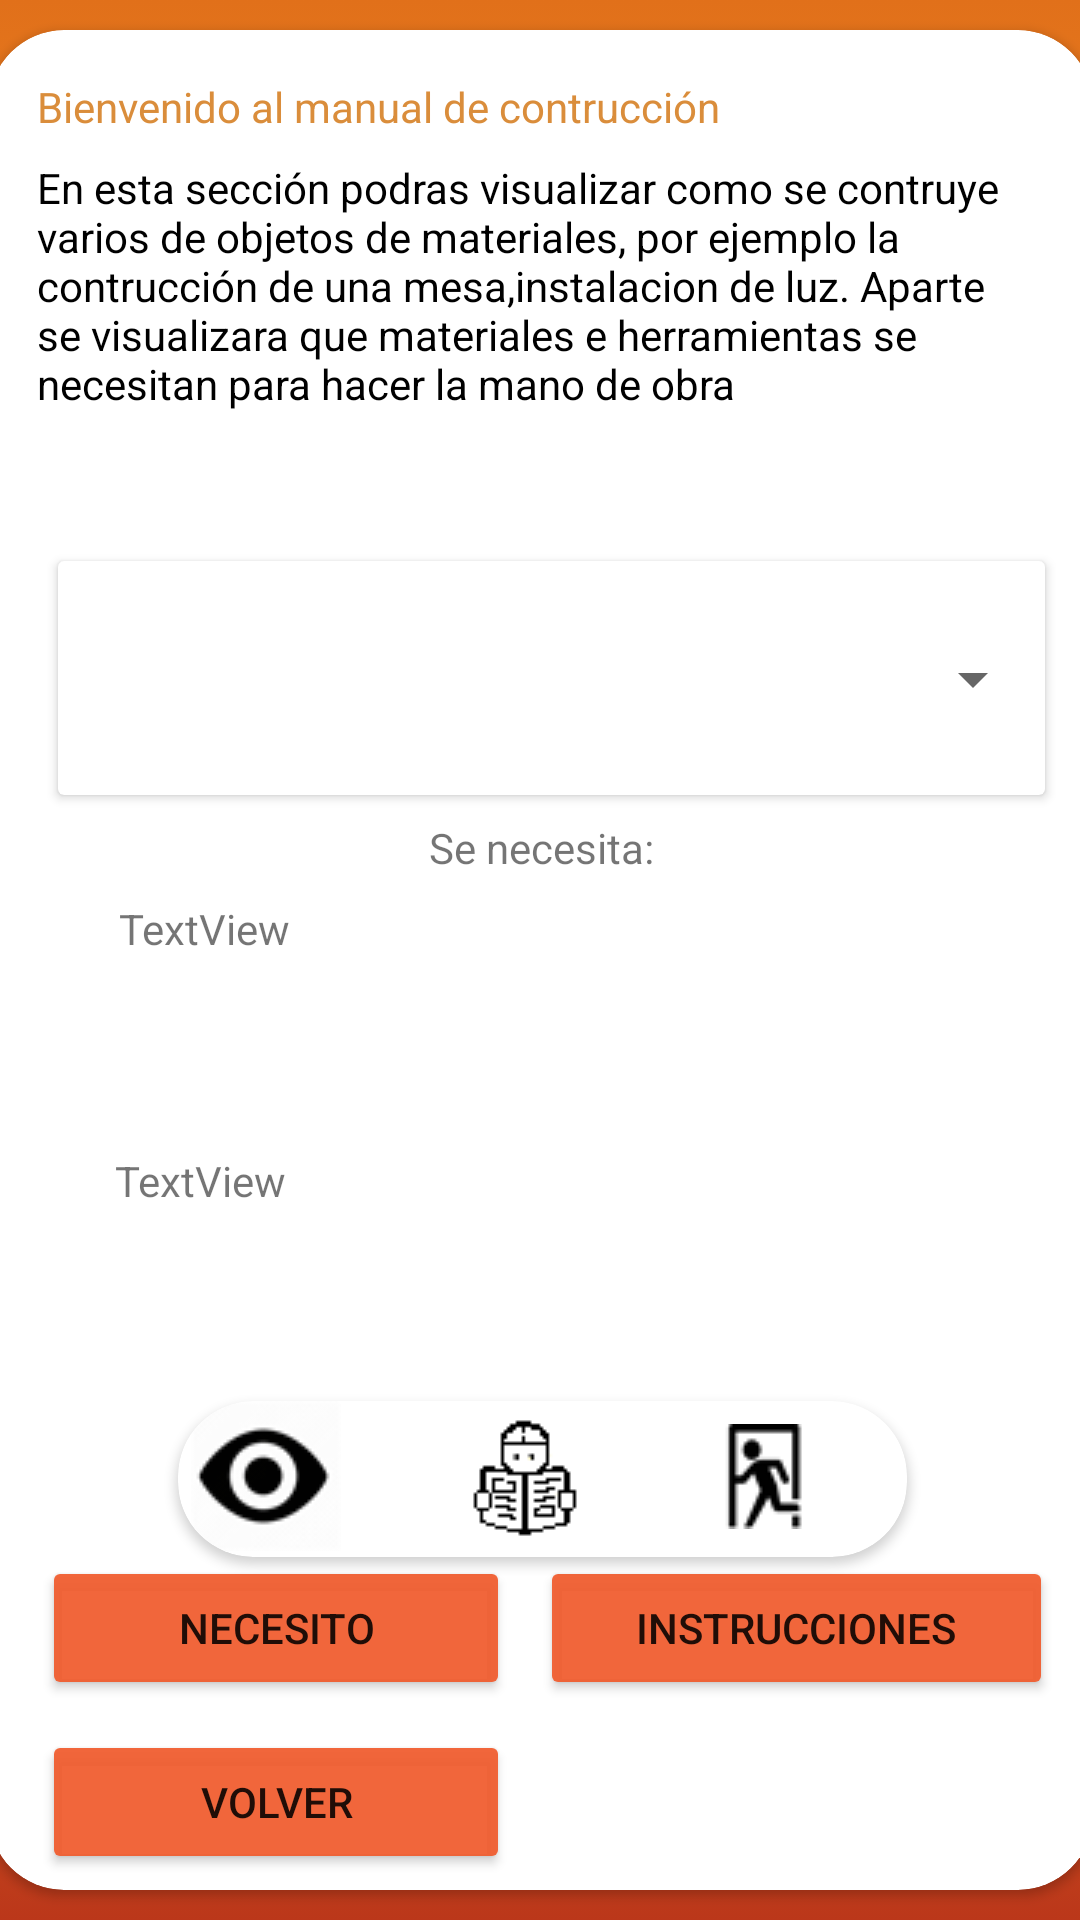

Where icons sit on this 1080 x 1920 app screen, as (x1, y1, x2, y2):
exit: (728, 1424, 802, 1529)
guia: (473, 1420, 577, 1536)
ojo: (198, 1427, 330, 1525)
